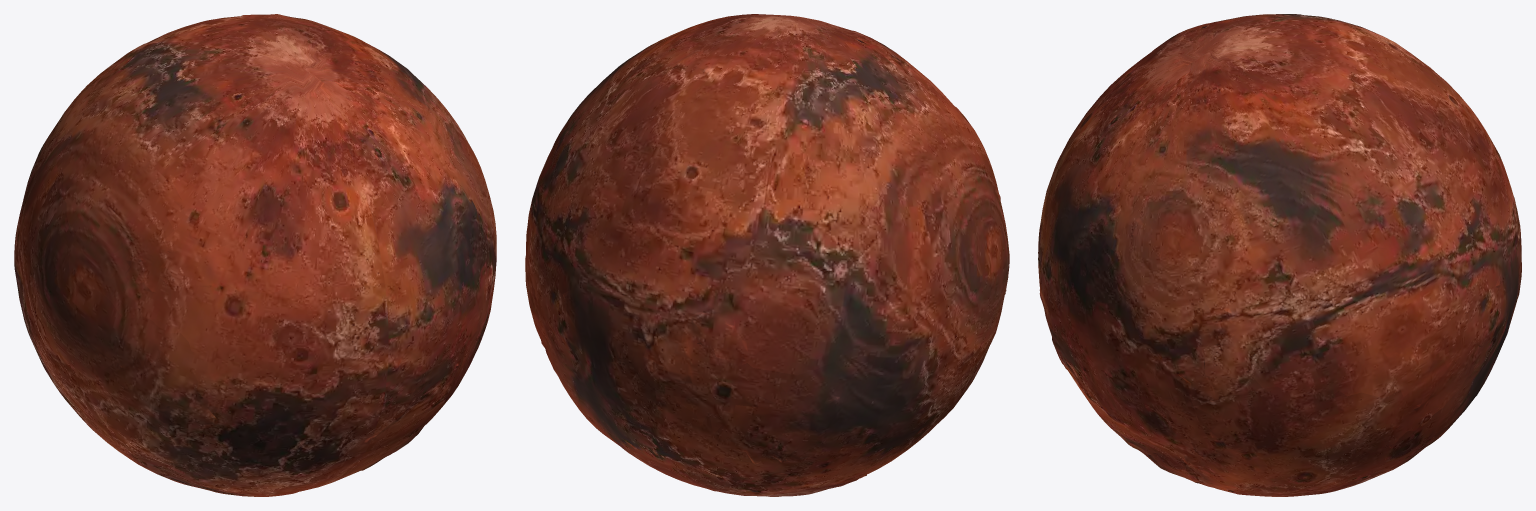
Rendered from planet_16.glb.
The picture shows the model from 3 angles, left to right: view 1: azimuth 30°, elevation 25°; view 2: azimuth 150°, elevation 25°; view 3: azimuth 270°, elevation 25°; orthographic projection.
Parts seen in each view (by area): view 1: Mesh_0.001; view 2: Mesh_0.001; view 3: Mesh_0.001.
Part boxes in pixels (left/top/right/bottom): Mesh_0.001: left=14, top=14, right=496, bottom=496; Mesh_0.001: left=525, top=14, right=1009, bottom=496; Mesh_0.001: left=1038, top=14, right=1521, bottom=496.
Bounding box in the file's own units: 1.9 × 1.9 × 1.9.
Materials: 1 (1 with a texture image).
